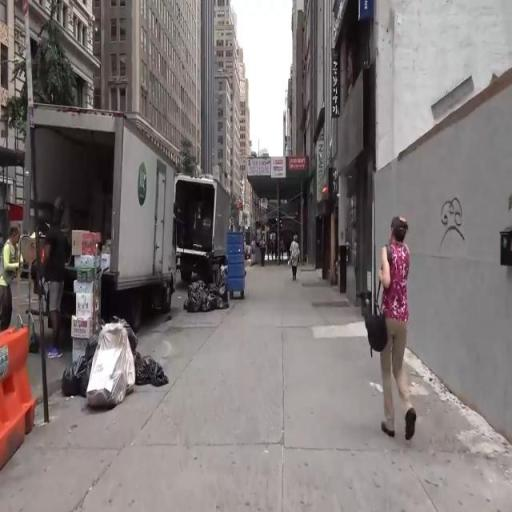person: (360, 214, 426, 481), (43, 225, 69, 361), (1, 223, 20, 332)
